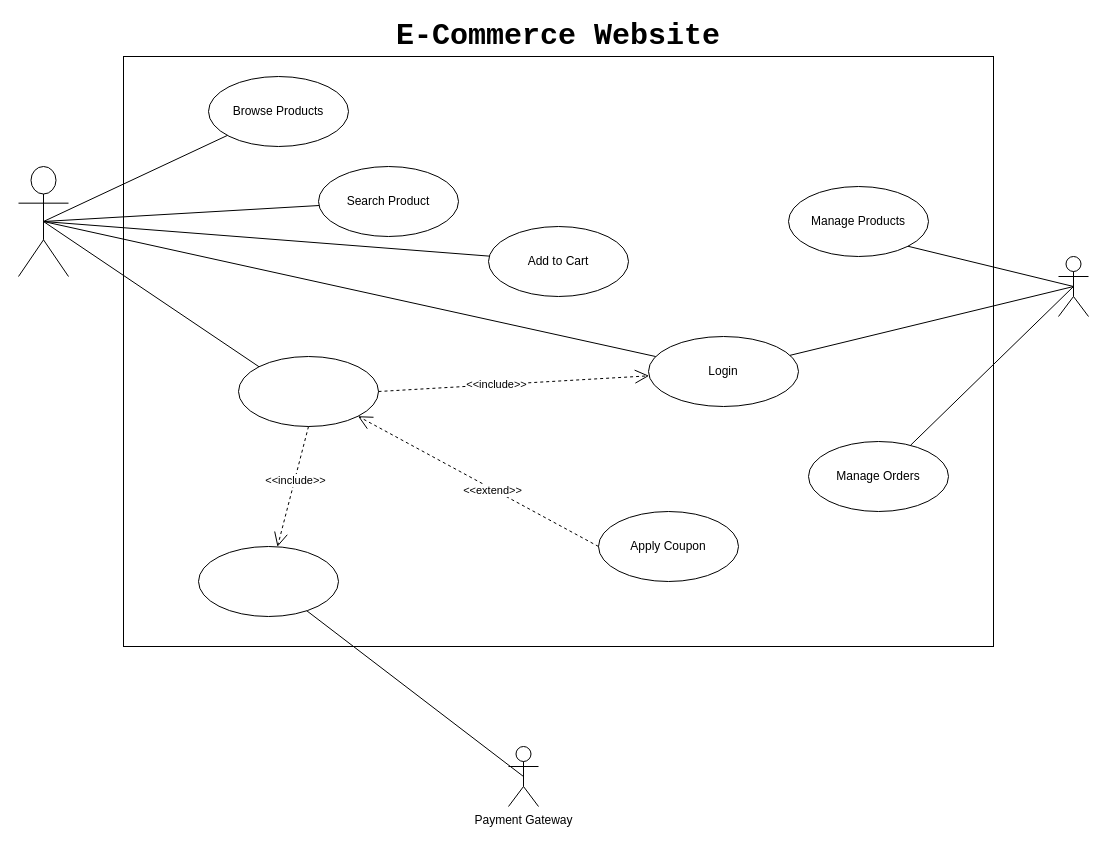
This 1107x844 diagram has some shape labels left out. Each missing label, with the box of its shape:
Admin: (1058, 256, 1088, 316)
Customer: (18, 166, 68, 276)
Make Payment: (198, 546, 338, 616)
Place Order: (238, 356, 378, 426)
